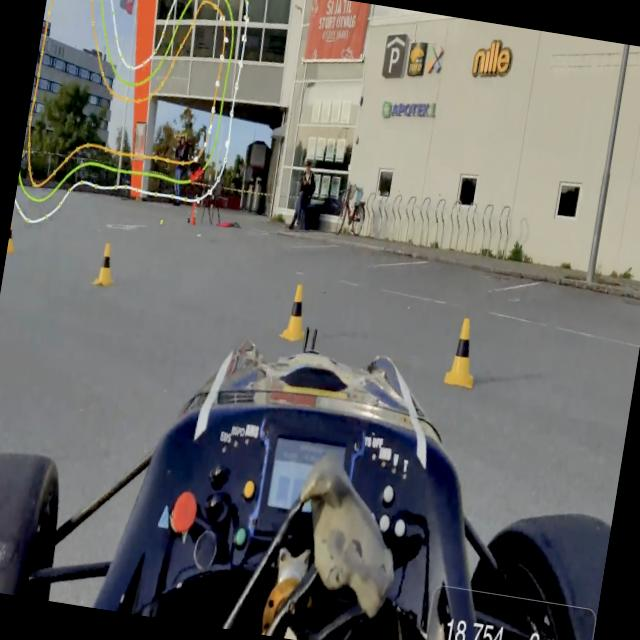yellow_cone: (440, 312, 486, 392), (278, 280, 314, 346), (90, 238, 120, 292), (6, 217, 21, 257)
